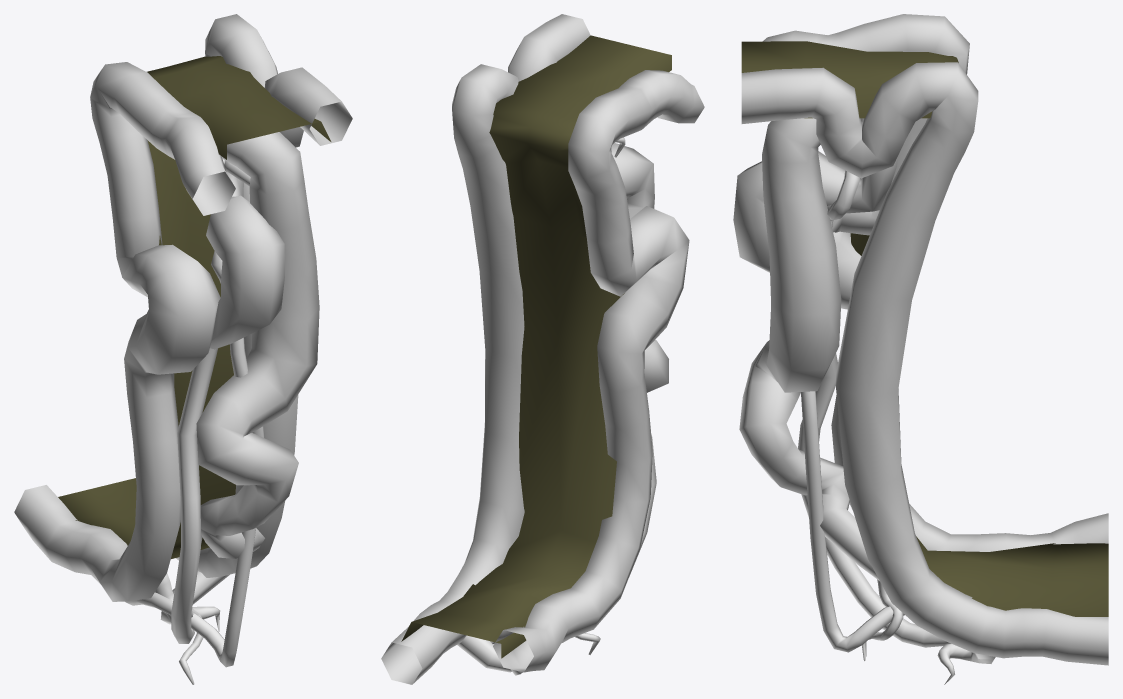
Rendered from Bstep.fbx.
3 renders of one model, left to right at view 1: azimuth 30°, elevation 25°; view 2: azimuth 150°, elevation 25°; view 3: azimuth 270°, elevation 25°, orthographic. The views are drawn at different scales.
Visible parts, largest first — view 1: NurbsPath.008, DummyPlane.012; view 2: NurbsPath.008, DummyPlane.012; view 3: NurbsPath.008, DummyPlane.012.
Part boxes in pixels (<box>): NurbsPath.008: <box>14,14,352,684</box>; DummyPlane.012: <box>58,56,331,558</box>; NurbsPath.008: <box>381,14,704,684</box>; DummyPlane.012: <box>401,35,671,658</box>; NurbsPath.008: <box>733,14,1108,684</box>; DummyPlane.012: <box>741,41,1108,616</box>.
Bounding box in the file's own units: 117 × 381 × 205.
